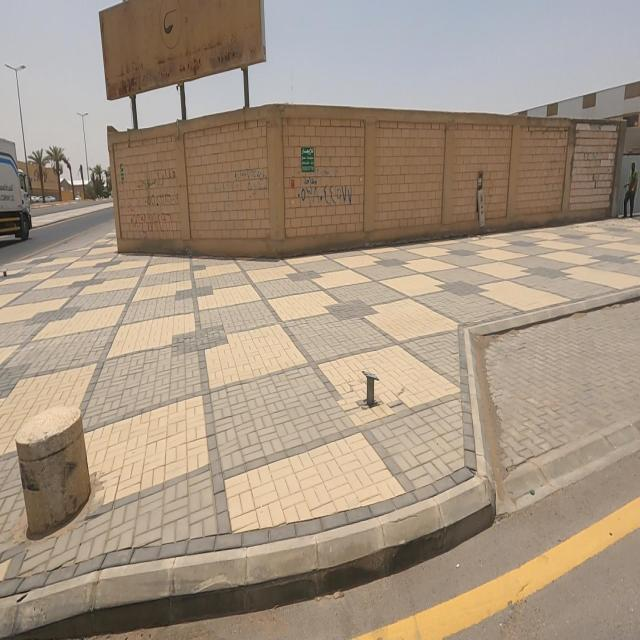Graffiti: (127, 165, 176, 234), (290, 174, 353, 209), (233, 163, 266, 199)
